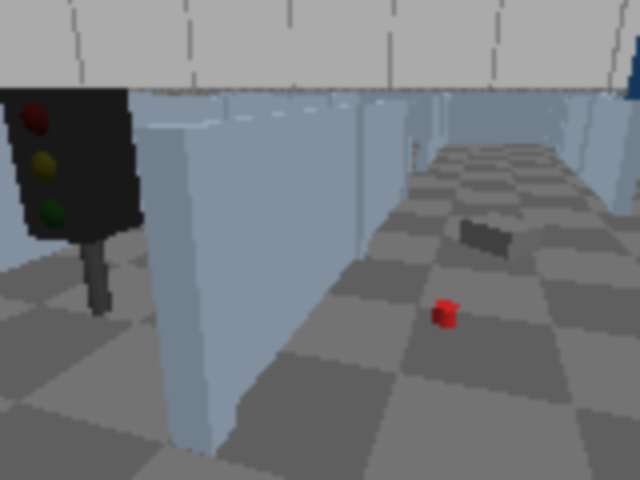person: (614, 0, 638, 172)
puck: (436, 301, 456, 326)
